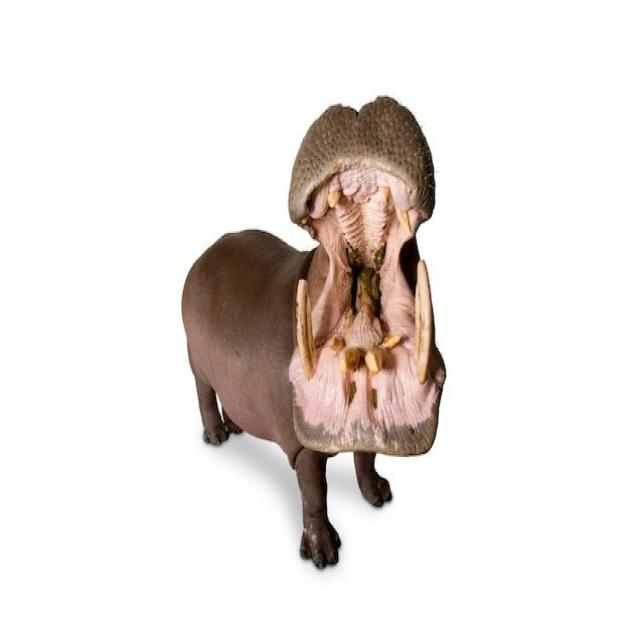Hippopotamus: (178, 91, 446, 563)
